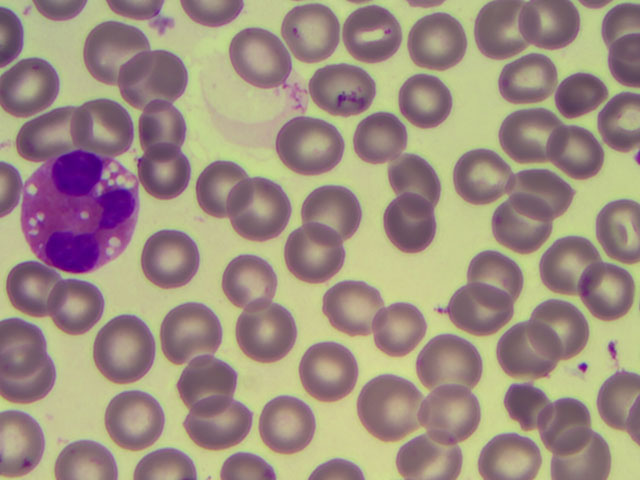RBC: (278, 212, 351, 284), (80, 15, 147, 79), (125, 46, 192, 110), (131, 94, 198, 158), (84, 97, 151, 161), (24, 102, 91, 166), (1, 52, 68, 116), (137, 137, 204, 201), (146, 218, 213, 282), (186, 153, 253, 217), (229, 183, 296, 247), (300, 181, 367, 240), (214, 250, 281, 309), (233, 305, 300, 364), (160, 301, 227, 360), (171, 344, 238, 403), (182, 399, 249, 458), (105, 383, 172, 442), (98, 315, 165, 374), (49, 282, 116, 341), (7, 258, 74, 317), (46, 421, 113, 480), (2, 409, 69, 468), (2, 351, 69, 410), (252, 397, 319, 456), (280, 347, 347, 406), (318, 282, 385, 341), (365, 302, 432, 361), (356, 371, 423, 430), (420, 387, 487, 446), (416, 336, 483, 395), (396, 421, 463, 480), (471, 421, 538, 480), (528, 390, 595, 449), (545, 421, 612, 480), (488, 372, 555, 431), (493, 322, 560, 381), (520, 305, 587, 364), (558, 276, 625, 335), (544, 238, 611, 297), (573, 204, 640, 263), (488, 196, 555, 255), (462, 256, 529, 315), (442, 276, 509, 335), (506, 168, 573, 227), (550, 122, 617, 181), (573, 92, 640, 151), (554, 70, 621, 129), (499, 52, 566, 111), (526, 6, 593, 65), (483, 4, 550, 63), (444, 145, 511, 204), (390, 190, 457, 249), (379, 136, 446, 195), (358, 107, 425, 166), (270, 116, 337, 175), (316, 54, 383, 113), (389, 68, 456, 127), (413, 15, 480, 74), (349, 4, 416, 63), (281, 4, 348, 63), (221, 30, 288, 89)
WBC: (22, 159, 144, 276)
